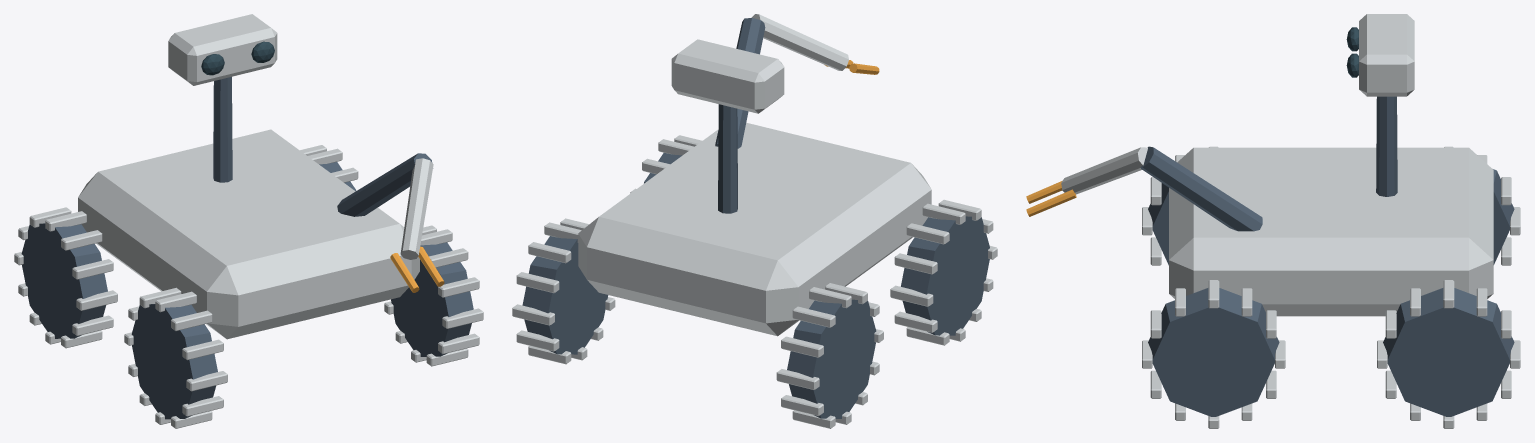
3 views of the same model, side by side, from view 1: azimuth 30°, elevation 25°; view 2: azimuth 150°, elevation 25°; view 3: azimuth 270°, elevation 25° (orthographic). The views are drawn at different scales.
Visible parts, largest first — view 1: ME-007 Four-wheel surface robot batched; view 2: ME-007 Four-wheel surface robot batched; view 3: ME-007 Four-wheel surface robot batched.
Part boxes in pixels (<box>): ME-007 Four-wheel surface robot batched: <box>14,14,483,428</box>; ME-007 Four-wheel surface robot batched: <box>512,14,997,428</box>; ME-007 Four-wheel surface robot batched: <box>1026,14,1520,428</box>.
Size of the model in its own units: 1.17 by 1.14 by 1.6.
